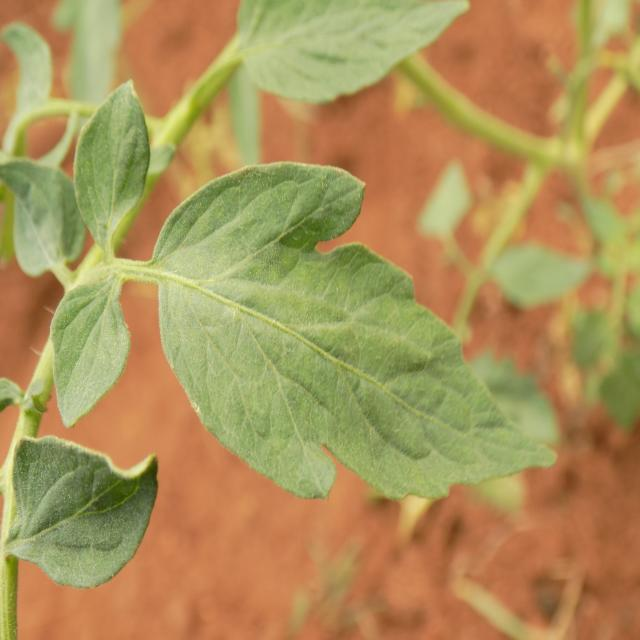tomato_healthy: (154, 161, 559, 502), (48, 81, 150, 424), (11, 441, 164, 591)
